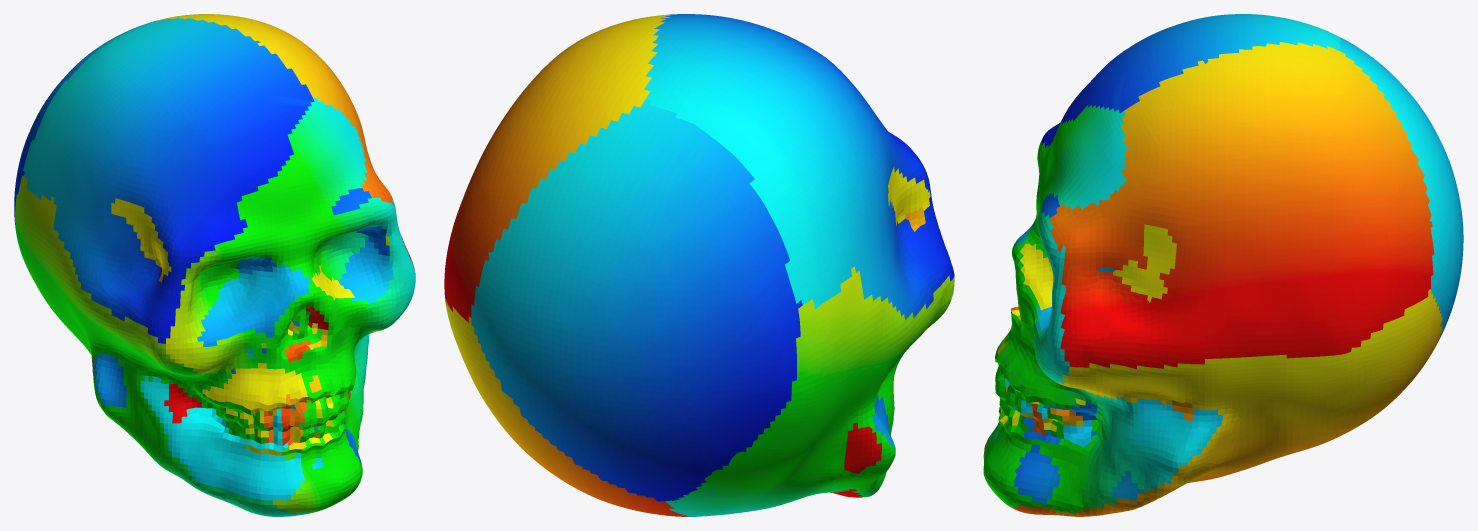
The model's file is rainbo.glb.
3 views of the same model, side by side, from view 1: azimuth 30°, elevation 25°; view 2: azimuth 150°, elevation 25°; view 3: azimuth 270°, elevation 25° (orthographic). The views are drawn at different scales.
Parts seen in each view (by area): view 1: skull; view 2: skull; view 3: skull.
Part boxes in pixels (x1,y1,x2,y2): skull: (14,14,415,516); skull: (444,14,954,516); skull: (983,14,1463,516).
Bounding box in the file's own units: 1.71 × 2.24 × 2.12.
Materials: 1 (1 with a texture image).
